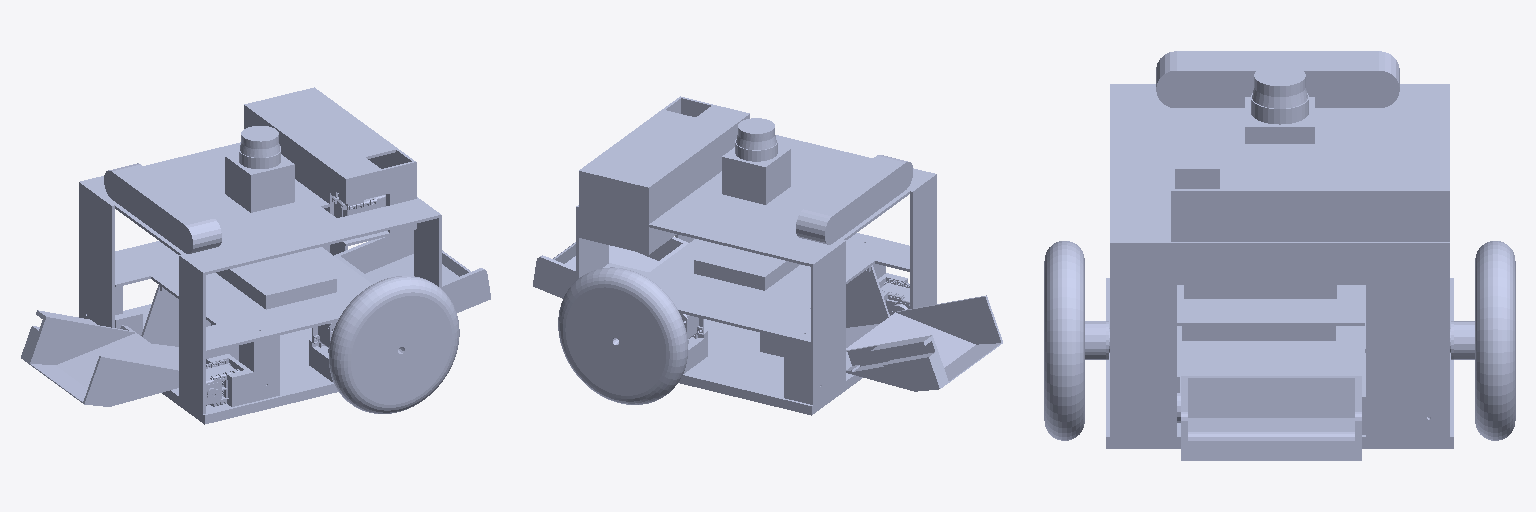
robot.urdf — tnbd-test:
<?xml version="1.0" encoding="utf-8"?>
<!-- This URDF was automatically created by SolidWorks to URDF Exporter! Originally created by [author] ([email redacted]) 
     Commit Version: 1.6.0-1-g15f4949  Build Version: 1.6.7594.29634
     For more information, please see http://wiki.ros.org/sw_urdf_exporter -->
<robot
  name="tnbd-test">
  <link
    name="base_link">
    <inertial>
      <origin
        xyz="-0.115723409081968 0.0664560979557336 -0.124705145122854"
        rpy="0 0 0" />
      <mass
        value="2.32617612046961" />
      <inertia
        ixx="0.00815574571553272"
        ixy="-2.86442961099172E-05"
        ixz="-0.000329601695057402"
        iyy="0.0128517781543451"
        iyz="-0.000175205741615394"
        izz="0.00587168295806961" />
    </inertial>
    <visual>
      <origin
        xyz="0 0 0"
        rpy="0 0 0" />
      <geometry>
        <mesh
          filename="package://tnbd-test/meshes/base_link.STL" />
      </geometry>
      <material
        name="">
        <color
          rgba="0.792156862745098 0.819607843137255 0.933333333333333 1" />
      </material>
    </visual>
    <collision>
      <origin
        xyz="0 0 0"
        rpy="0 0 0" />
      <geometry>
        <mesh
          filename="package://tnbd-test/meshes/base_link.STL" />
      </geometry>
    </collision>
  </link>
  <link
    name="front">
    <inertial>
      <origin
        xyz="0.04 0.0236120947500488 -0.049877221371119"
        rpy="0 0 0" />
      <mass
        value="0.273889804906921" />
      <inertia
        ixx="0.000335060211779872"
        ixy="9.35653254439043E-21"
        ixz="4.02851264698071E-20"
        iyy="0.00079692270152299"
        iyz="6.50926009069712E-05"
        izz="0.00055496887166969" />
    </inertial>
    <visual>
      <origin
        xyz="0 0 0"
        rpy="0 0 0" />
      <geometry>
        <mesh
          filename="package://tnbd-test/meshes/front.STL" />
      </geometry>
      <material
        name="">
        <color
          rgba="0.792156862745098 0.819607843137255 0.933333333333333 1" />
      </material>
    </visual>
    <collision>
      <origin
        xyz="0 0 0"
        rpy="0 0 0" />
      <geometry>
        <mesh
          filename="package://tnbd-test/meshes/front.STL" />
      </geometry>
    </collision>
  </link>
  <joint
    name="front"
    type="fixed">
    <origin
      xyz="-0.25413 0.259 0.030639"
      rpy="-1.9533 0 -1.5708" />
    <parent
      link="base_link" />
    <child
      link="front" />
    <axis
      xyz="0 0 0" />
  </joint>
  <link
    name="back">
    <inertial>
      <origin
        xyz="0.00073570878880784 -0.00811367741170863 -0.00760571773883611"
        rpy="0 0 0" />
      <mass
        value="0.123674446484502" />
      <inertia
        ixx="0.000154119408139332"
        ixy="-1.20520089460571E-06"
        ixz="3.93094444525202E-06"
        iyy="0.000384914617025624"
        iyz="3.20341814310499E-05"
        izz="0.000271465443981443" />
    </inertial>
    <visual>
      <origin
        xyz="0 0 0"
        rpy="0 0 0" />
      <geometry>
        <mesh
          filename="package://tnbd-test/meshes/back.STL" />
      </geometry>
      <material
        name="">
        <color
          rgba="0.792156862745098 0.819607843137255 0.933333333333333 1" />
      </material>
    </visual>
    <collision>
      <origin
        xyz="0 0 0"
        rpy="0 0 0" />
      <geometry>
        <mesh
          filename="package://tnbd-test/meshes/back.STL" />
      </geometry>
    </collision>
  </link>
  <joint
    name="back"
    type="fixed">
    <origin
      xyz="0.036611 0.119 0.023049"
      rpy="-1.7297 0 -1.5708" />
    <parent
      link="base_link" />
    <child
      link="back" />
    <axis
      xyz="0 0 0" />
  </joint>
  <link
    name="left-wheel">
    <inertial>
      <origin
        xyz="1.38777878078145E-17 1.38777878078145E-17 0.0149237953980857"
        rpy="0 0 0" />
      <mass
        value="0.44033183103492" />
      <inertia
        ixx="0.00055194543651255"
        ixy="0"
        ixz="2.59326056160353E-20"
        iyy="0.00055194543651255"
        iyz="1.60848599043456E-19"
        izz="0.00103988623332371" />
    </inertial>
    <visual>
      <origin
        xyz="0 0 0"
        rpy="0 0 0" />
      <geometry>
        <mesh
          filename="package://tnbd-test/meshes/left-wheel.STL" />
      </geometry>
      <material
        name="">
        <color
          rgba="0.792156862745098 0.819607843137255 0.933333333333333 1" />
      </material>
    </visual>
    <collision>
      <origin
        xyz="0 0 0"
        rpy="0 0 0" />
      <geometry>
        <mesh
          filename="package://tnbd-test/meshes/left-wheel.STL" />
      </geometry>
    </collision>
  </link>
  <joint
    name="left-wheel"
    type="continuous">
    <origin
      xyz="-0.0725 -0.044 0.0521"
      rpy="-1.5708 0.15964 0" />
    <parent
      link="base_link" />
    <child
      link="left-wheel" />
    <axis
      xyz="0 0 0" />
  </joint>
  <link
    name="right-wheel">
    <inertial>
      <origin
        xyz="-1.38777878078145E-17 -6.93889390390723E-18 0.0149237953980857"
        rpy="0 0 0" />
      <mass
        value="0.44033183103492" />
      <inertia
        ixx="0.00055194543651255"
        ixy="-1.35525271560688E-20"
        ixz="-6.13746659391556E-21"
        iyy="0.00055194543651255"
        iyz="-2.17087336989027E-22"
        izz="0.00103988623332371" />
    </inertial>
    <visual>
      <origin
        xyz="0 0 0"
        rpy="0 0 0" />
      <geometry>
        <mesh
          filename="package://tnbd-test/meshes/right-wheel.STL" />
      </geometry>
      <material
        name="">
        <color
          rgba="0.792156862745098 0.819607843137255 0.933333333333333 1" />
      </material>
    </visual>
    <collision>
      <origin
        xyz="0 0 0"
        rpy="0 0 0" />
      <geometry>
        <mesh
          filename="package://tnbd-test/meshes/right-wheel.STL" />
      </geometry>
    </collision>
  </link>
  <joint
    name="right-wheel"
    type="continuous">
    <origin
      xyz="-0.0725 0.294 0.0521"
      rpy="1.5708 0.26474 0" />
    <parent
      link="base_link" />
    <child
      link="right-wheel" />
    <axis
      xyz="0 0 0" />
  </joint>
  <link
    name="ridar">
    <inertial>
      <origin
        xyz="0 0 0.0116926393256121"
        rpy="0 0 0" />
      <mass
        value="0.138164930599878" />
      <inertia
        ixx="7.25230029198107E-05"
        ixy="8.3028918109279E-22"
        ixz="-9.28091615073954E-21"
        iyy="7.25230029198107E-05"
        iyz="9.11905196034366E-22"
        izz="4.97771601006264E-05" />
    </inertial>
    <visual>
      <origin
        xyz="0 0 0"
        rpy="0 0 0" />
      <geometry>
        <mesh
          filename="package://tnbd-test/meshes/ridar.STL" />
      </geometry>
      <material
        name="">
        <color
          rgba="0.792156862745098 0.819607843137255 0.933333333333333 1" />
      </material>
    </visual>
    <collision>
      <origin
        xyz="0 0 0"
        rpy="0 0 0" />
      <geometry>
        <mesh
          filename="package://tnbd-test/meshes/ridar.STL" />
      </geometry>
    </collision>
  </link>
  <joint
    name="ridar"
    type="fixed">
    <origin
      xyz="-0.135 0.125 0.204"
      rpy="3.1416 0 0" />
    <parent
      link="base_link" />
    <child
      link="ridar" />
    <axis
      xyz="0 0 0" />
  </joint>
  <link
    name="zed">
    <inertial>
      <origin
        xyz="2.45619372063466E-10 0 0.0165"
        rpy="0 0 0" />
      <mass
        value="0.166876325452904" />
      <inertia
        ixx="2.7222382341577E-05"
        ixy="-1.42291822711566E-19"
        ixz="5.68379928496377E-12"
        iyy="0.000412109193003404"
        iyz="-4.74784480015911E-21"
        izz="0.000409043522275279" />
    </inertial>
    <visual>
      <origin
        xyz="0 0 0"
        rpy="0 0 0" />
      <geometry>
        <mesh
          filename="package://tnbd-test/meshes/zed.STL" />
      </geometry>
      <material
        name="">
        <color
          rgba="0.792156862745098 0.819607843137255 0.933333333333333 1" />
      </material>
    </visual>
    <collision>
      <origin
        xyz="0 0 0"
        rpy="0 0 0" />
      <geometry>
        <mesh
          filename="package://tnbd-test/meshes/zed.STL" />
      </geometry>
    </collision>
  </link>
  <joint
    name="zed"
    type="fixed">
    <origin
      xyz="-0.22924 0.12351 0.178"
      rpy="-1.5708 0 1.5708" />
    <parent
      link="base_link" />
    <child
      link="zed" />
    <axis
      xyz="0 0 0" />
  </joint>
</robot>

--- Facts derived from the render (not from the file) ---
The picture shows the robot from 3 angles, left to right: view 1: azimuth 30°, elevation 25°; view 2: azimuth 150°, elevation 25°; view 3: azimuth 270°, elevation 25°; orthographic projection.
Robot: tnbd-test — 7 links, 6 joints (2 continuous, 4 fixed); root link base_link; default pose: all joints at 0.
Links seen in each view (by area): view 1: base_link, left-wheel, front, zed, ridar, back; view 2: base_link, right-wheel, front, zed, ridar, back; view 3: base_link, back, zed, left-wheel, right-wheel, ridar.
Link boxes in pixels (x1,y1,x2,y2): base_link: [79, 87, 441, 424]; left-wheel: [329, 276, 459, 413]; front: [21, 310, 178, 406]; zed: [104, 163, 221, 253]; ridar: [225, 126, 294, 212]; back: [334, 230, 490, 312]; base_link: [576, 96, 936, 415]; right-wheel: [558, 267, 687, 404]; front: [846, 295, 1002, 391]; zed: [796, 155, 912, 244]; ridar: [722, 118, 790, 204]; back: [533, 237, 688, 298]; base_link: [1106, 84, 1453, 448]; back: [1177, 376, 1361, 460]; zed: [1156, 51, 1399, 107]; left-wheel: [1044, 241, 1105, 440]; right-wheel: [1454, 241, 1515, 440]; ridar: [1245, 65, 1314, 143].
Size in the robot's own frame: 0.4612 by 0.338 by 0.254 metres.
7 mesh visuals loaded from 7 distinct referenced files (7 binary STL).